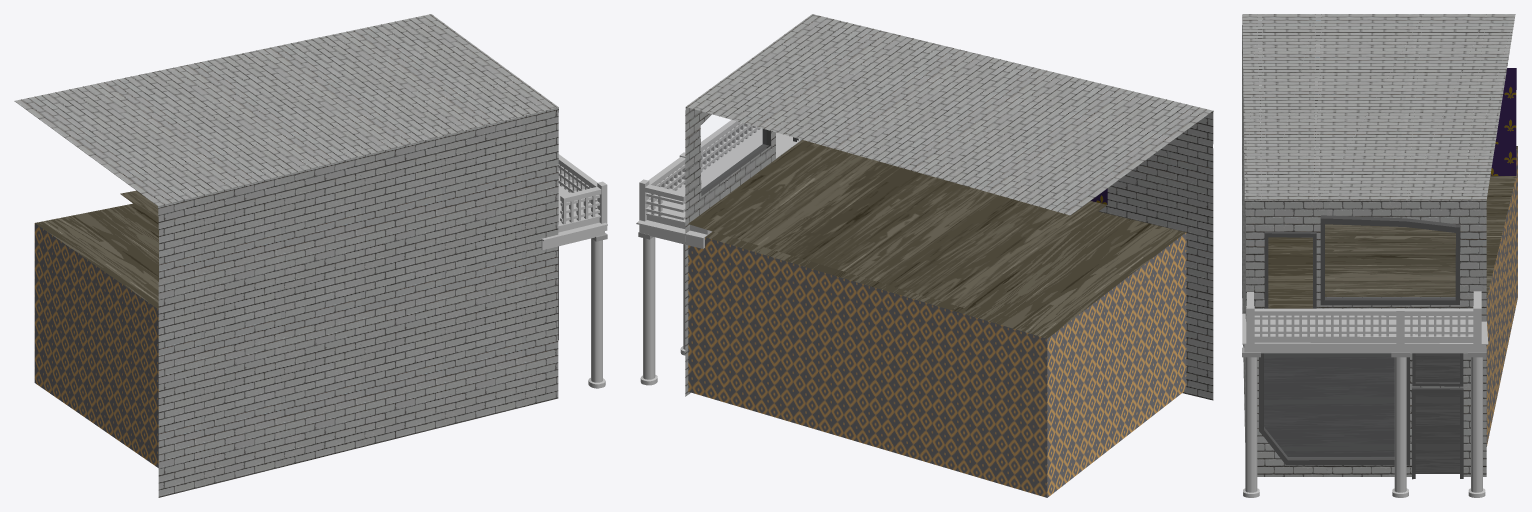
The model's file is Pastry Shop.fbx.
3 renders of one model, left to right at view 1: azimuth 30°, elevation 25°; view 2: azimuth 150°, elevation 25°; view 3: azimuth 270°, elevation 25°, orthographic. The views are drawn at different scales.
Parts seen in each view (by area): view 1: Pastry_Front, Floor_1_Bottom_Rm; view 2: Floor_1_Bottom_Rm, Pastry_Front, Floor_2_Top_Rm; view 3: Pastry_Front, Floor_1_Bottom_Rm, Floor_2_Top_Rm.
Part boxes in pixels (x1,y1,x2,y2): Pastry_Front: [14, 14, 607, 497]; Floor_1_Bottom_Rm: [34, 203, 158, 467]; Floor_1_Bottom_Rm: [688, 211, 1186, 497]; Pastry_Front: [636, 14, 1213, 400]; Floor_2_Top_Rm: [688, 140, 1107, 308]; Pastry_Front: [1242, 14, 1515, 497]; Floor_1_Bottom_Rm: [1264, 146, 1517, 473]; Floor_2_Top_Rm: [1268, 68, 1516, 308].
Bounding box in the file's own units: 62.51 × 38.58 × 34.87.
